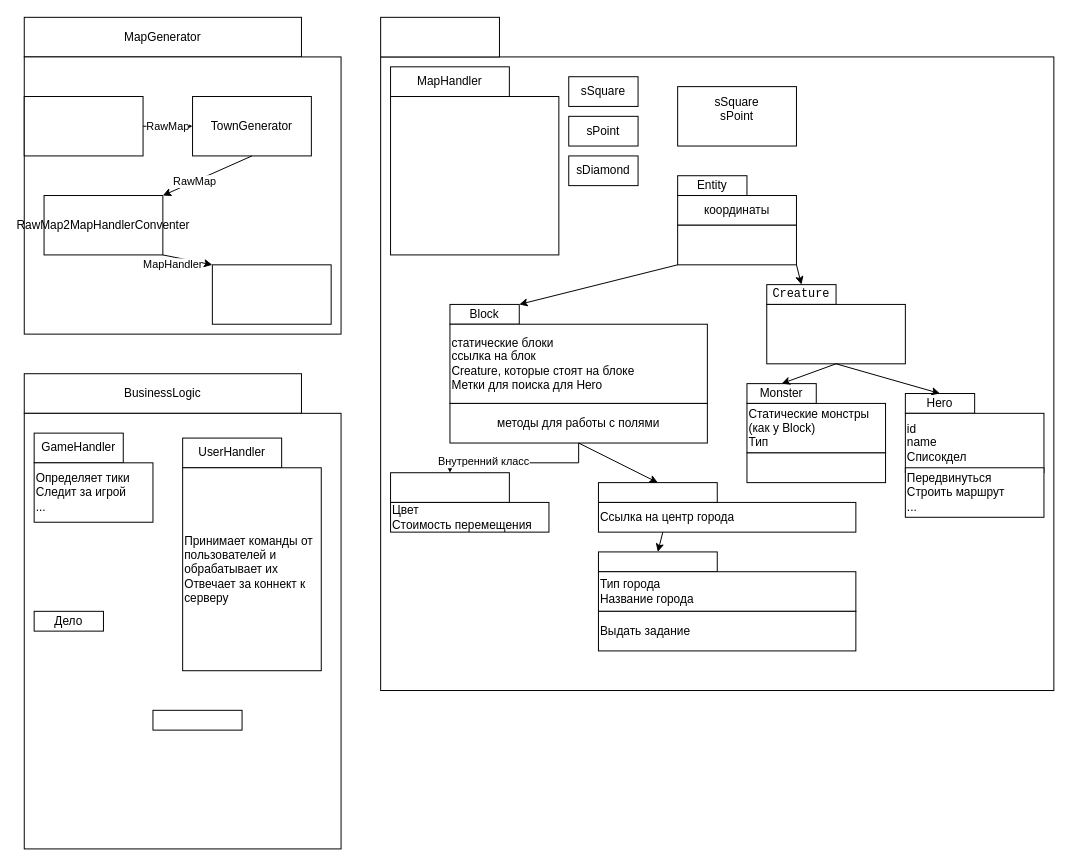
This 1071x866 diagram has some shape labels left out. Here are the shapes that lost their labels. From the top down, the centre of each, then its label:
At point (439, 36): "sMap".
At point (83, 126): "LandScapeGenerator".
At point (474, 175): "В конструкторе RawMap Установить блок".
At point (736, 244): "Получить цвет".
At point (271, 294): "HeroGenerator".
At point (835, 333): "hp Damage цвет Block, на котором стоит".
At point (449, 487): "AbstractBlocks".
At point (657, 492): "Город".
At point (657, 561): "Центр города".
At point (197, 719): "IKnowDeWay".
